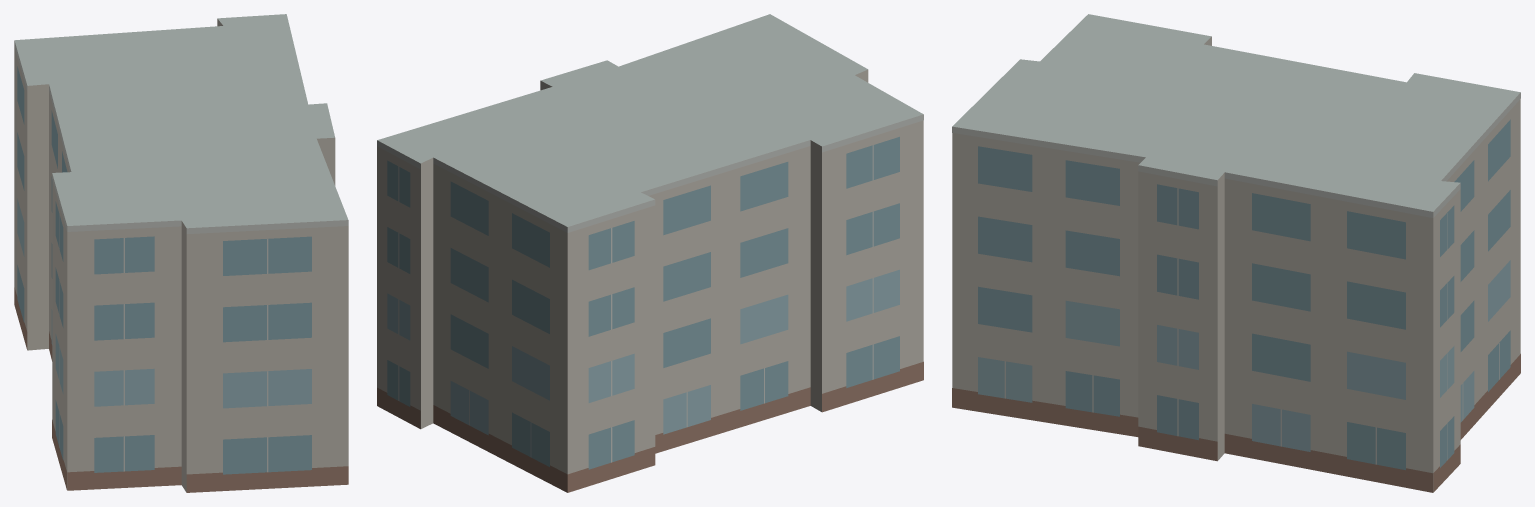
The model's file is survey-upis-32779594.glb.
3 views of the same model, side by side, from view 1: azimuth 30°, elevation 25°; view 2: azimuth 150°, elevation 25°; view 3: azimuth 270°, elevation 25° (orthographic). The views are drawn at different scales.
Parts seen in each view (by area): view 1: survey-upis-32779594.tmp; view 2: survey-upis-32779594.tmp; view 3: survey-upis-32779594.tmp.
Part boxes in pixels (x1,y1,x2,y2): survey-upis-32779594.tmp: (14,14,348,492); survey-upis-32779594.tmp: (377,14,923,492); survey-upis-32779594.tmp: (952,14,1520,492).
Bounding box in the file's own units: 16.47 × 10.9 × 20.
